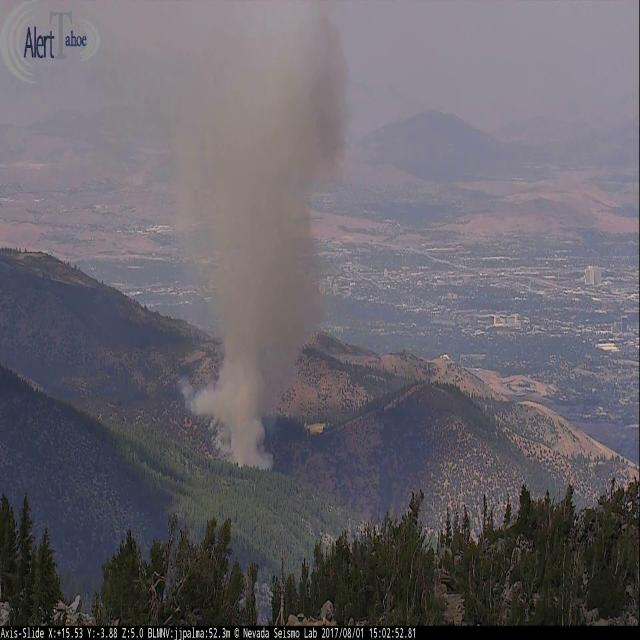smoke: (165, 0, 362, 484)
